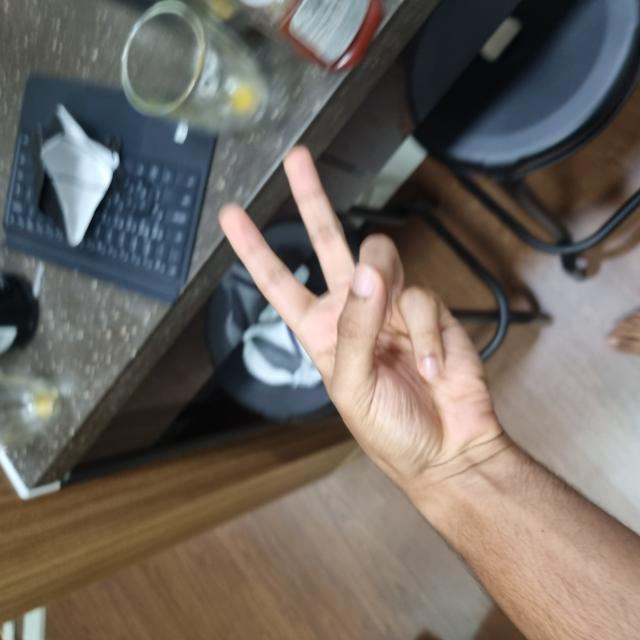Scissors: (171, 221, 488, 497)
